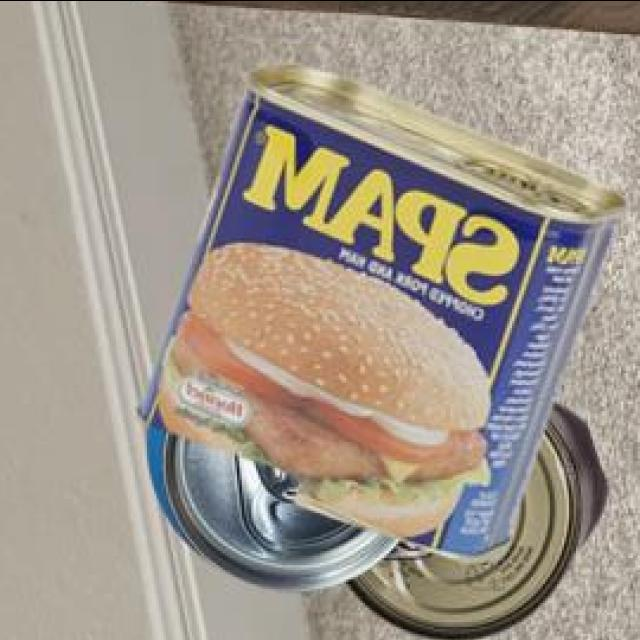logam: (134, 60, 625, 558), (343, 395, 606, 636), (146, 421, 397, 587)
